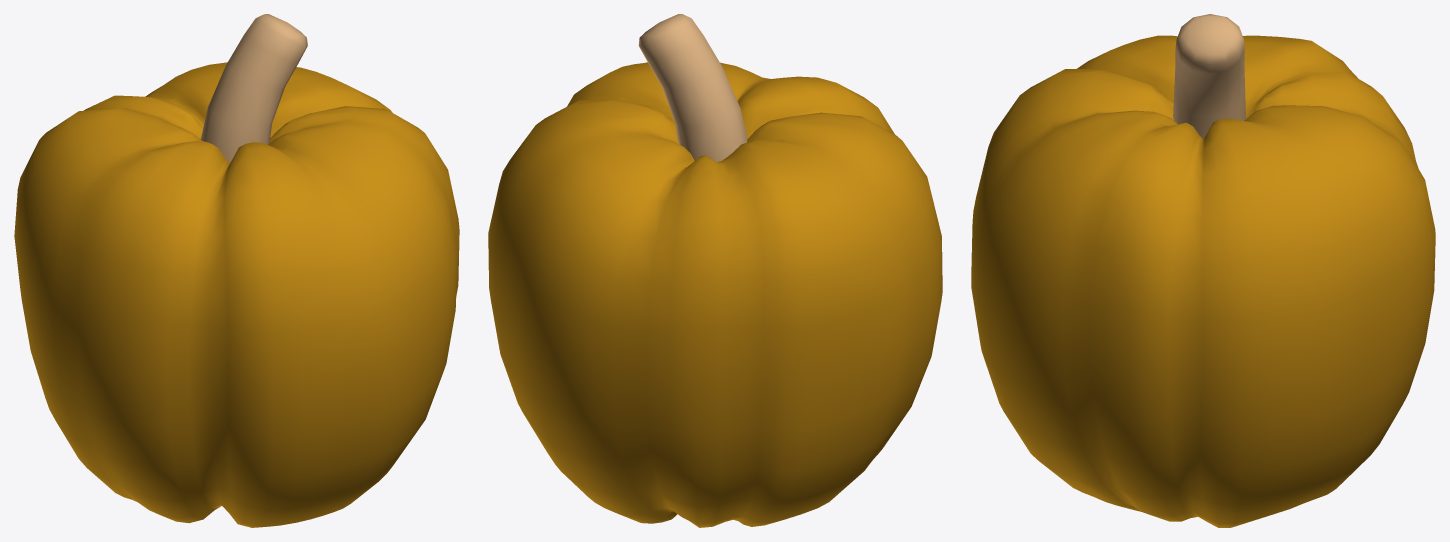
File: Capsicum_02.dae
The picture shows the model from 3 angles, left to right: view 1: azimuth 30°, elevation 25°; view 2: azimuth 150°, elevation 25°; view 3: azimuth 270°, elevation 25°; orthographic projection. The views are drawn at different scales.
Visible parts, largest first — view 1: Capsicum_02_LOD0; view 2: Capsicum_02_LOD0; view 3: Capsicum_02_LOD0.
Boxes of the visible parts, bbox=[...] form: Capsicum_02_LOD0: bbox=[14, 14, 459, 527]; Capsicum_02_LOD0: bbox=[488, 14, 942, 527]; Capsicum_02_LOD0: bbox=[971, 14, 1435, 527].
Size of what is drawn, in the model's own units: 4.12 by 4.1 by 4.78.
